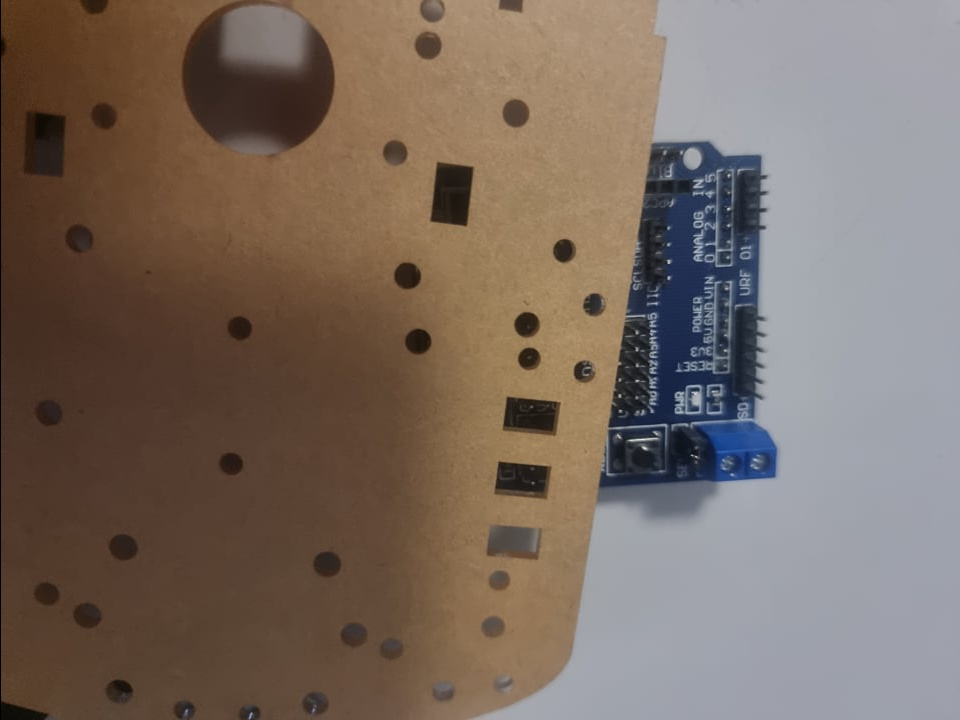5V EXPANSION: (598, 128, 780, 497)
